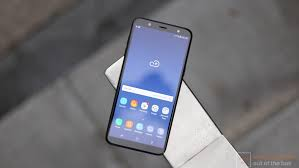nokia: (103, 15, 197, 158)
